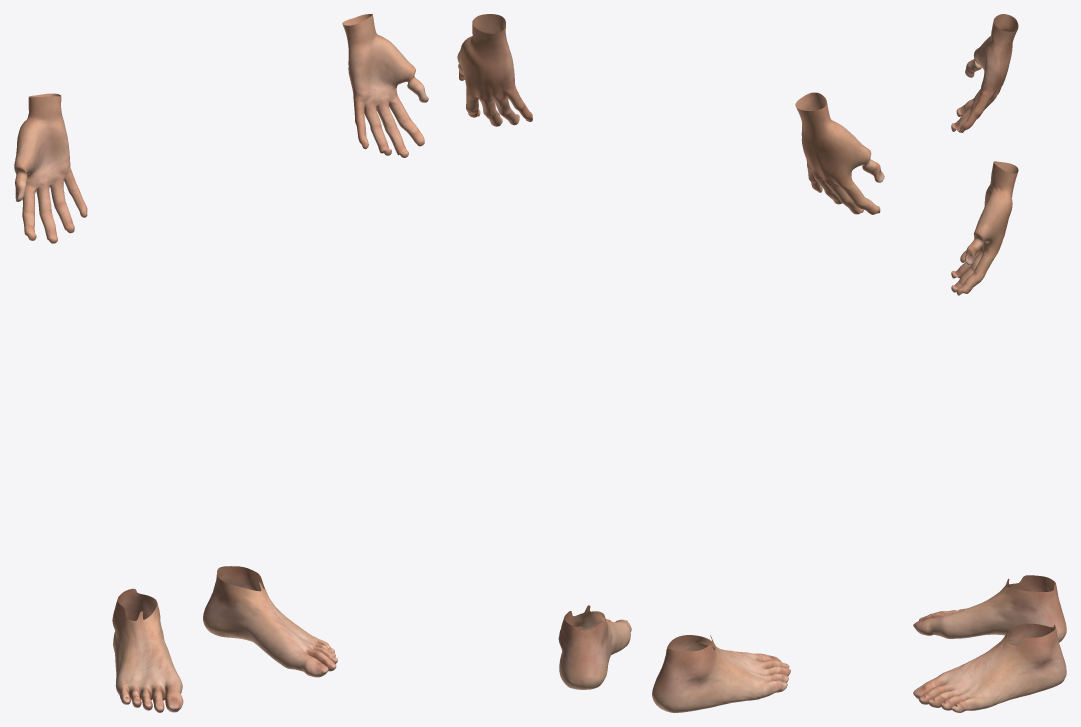
File: extremidades.glb
The picture shows the model from 3 angles, left to right: view 1: azimuth 30°, elevation 25°; view 2: azimuth 150°, elevation 25°; view 3: azimuth 270°, elevation 25°; orthographic projection. The views are drawn at different scales.
Parts seen in each view (by area): view 1: foot_L, hand_L, hand_R, foot_R; view 2: foot_R, hand_R, hand_L, foot_L; view 3: foot_L, foot_R, hand_L, hand_R.
Boxes of the visible parts, x1,y1,x2,y2 form: foot_L: [203, 566, 337, 677]; hand_L: [342, 14, 428, 157]; hand_R: [14, 93, 87, 243]; foot_R: [112, 588, 183, 712]; foot_R: [652, 635, 790, 712]; hand_R: [795, 92, 884, 214]; hand_L: [457, 14, 532, 126]; foot_L: [558, 605, 631, 689]; foot_L: [913, 623, 1066, 712]; foot_R: [913, 575, 1066, 642]; hand_L: [951, 161, 1018, 295]; hand_R: [951, 14, 1018, 132].
Size of the model in its own units: 0.6502 by 0.9187 by 0.2222.
4 materials, 4 textured.
